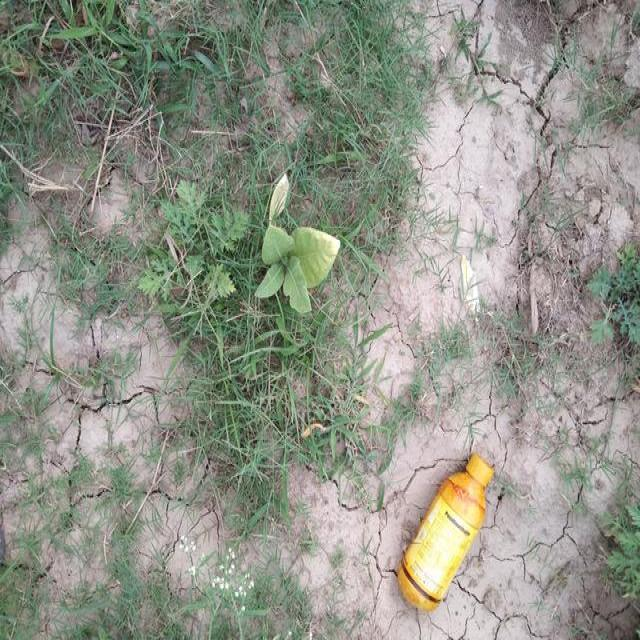crop: (252, 213, 346, 321)
